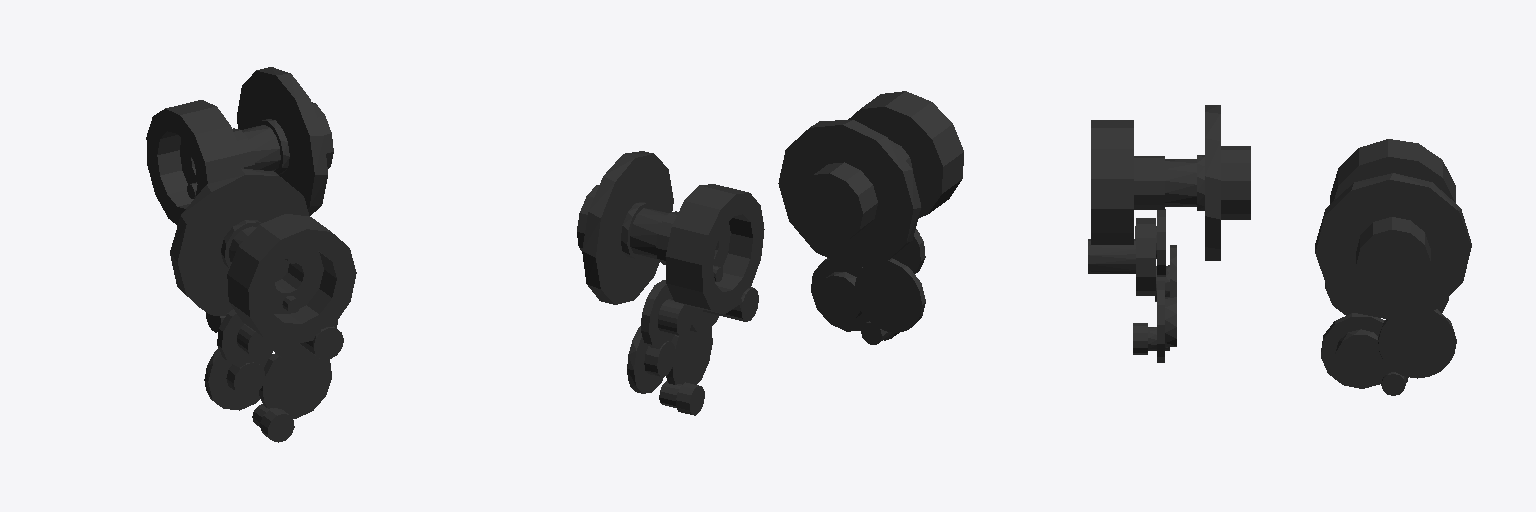
Rendered from roki2_simlify_Dual_Servo_Al_022Copyv1__1__1_mesh_5.obj.
3 renders of one model, left to right at view 1: azimuth 30°, elevation 25°; view 2: azimuth 150°, elevation 25°; view 3: azimuth 270°, elevation 25°, orthographic.
Size of the model in its own units: 0.0342 by 0.034 by 0.049.